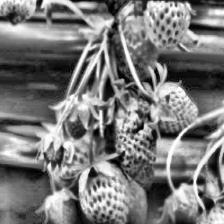Gray Mold: (97, 82, 158, 189)
